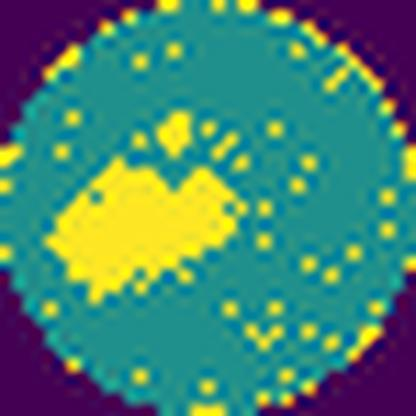Loc: (48, 155, 250, 305), (154, 106, 196, 158)
